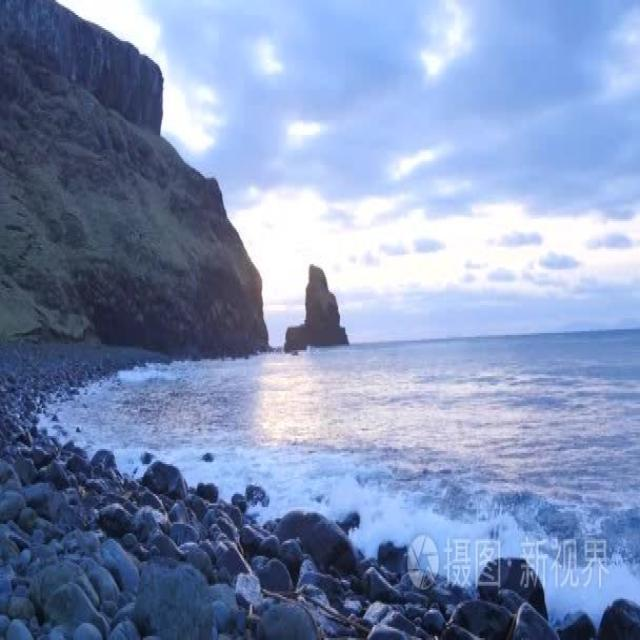reef: (214, 427, 360, 620), (280, 276, 358, 344)
